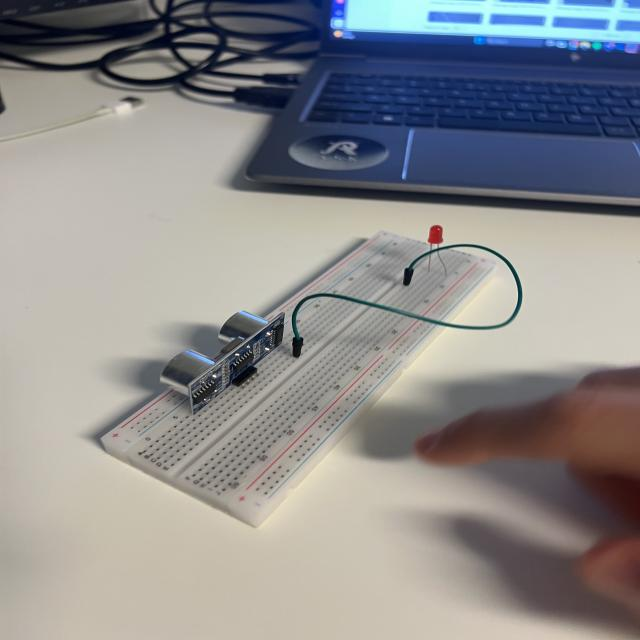BreadBoard: (97, 228, 505, 530)
REDLed: (423, 225, 452, 276)
UltrasoneSensor: (142, 304, 293, 413)
